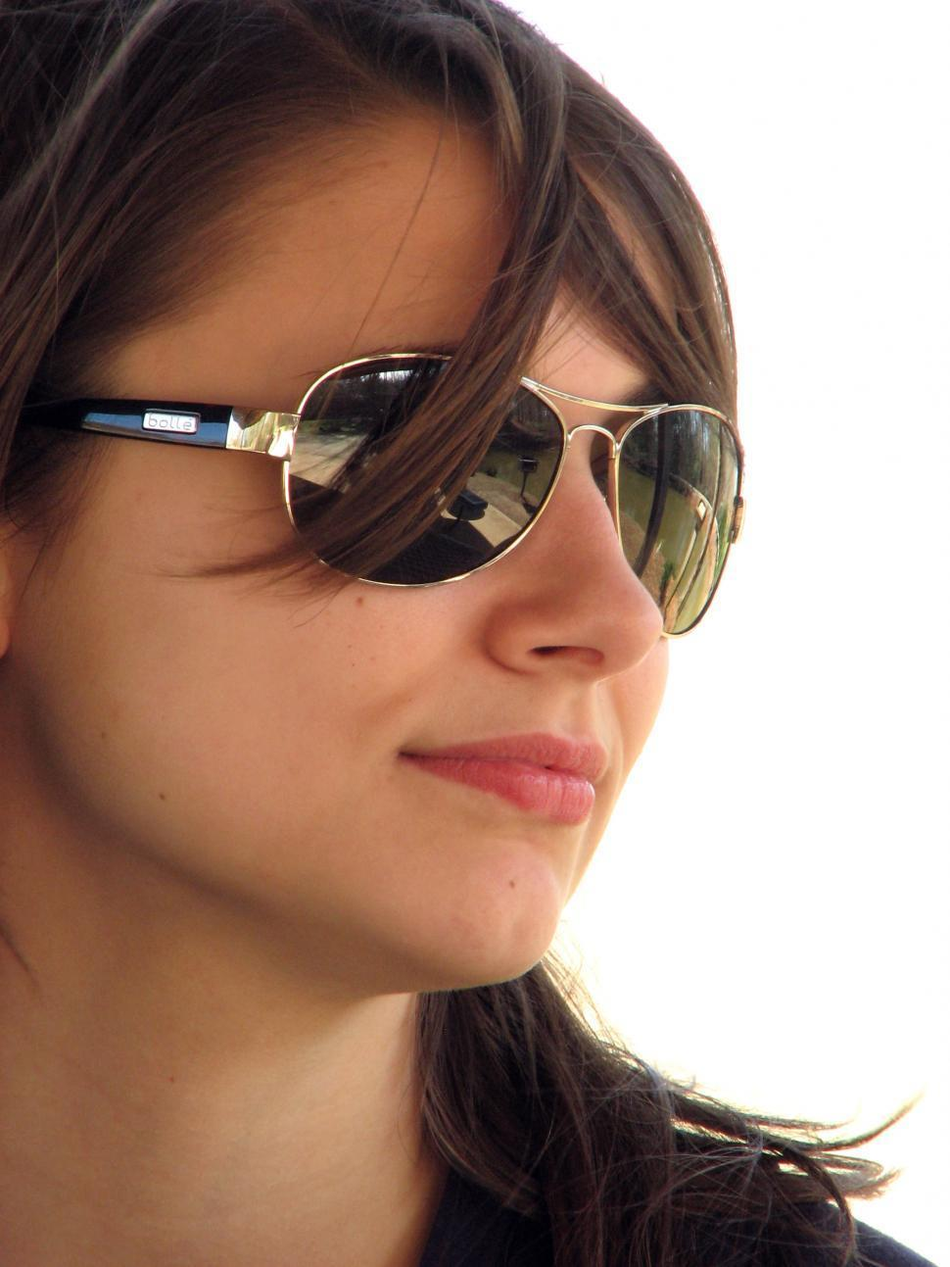sunglasses: (75, 330, 784, 657)
